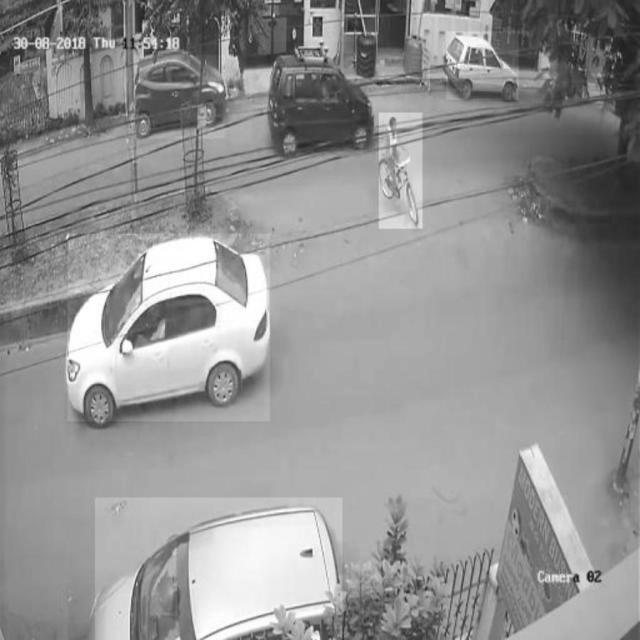vehicle: (68, 235, 270, 422), (95, 498, 343, 640), (268, 41, 372, 152), (134, 55, 225, 138), (379, 113, 423, 229), (447, 31, 519, 99)
